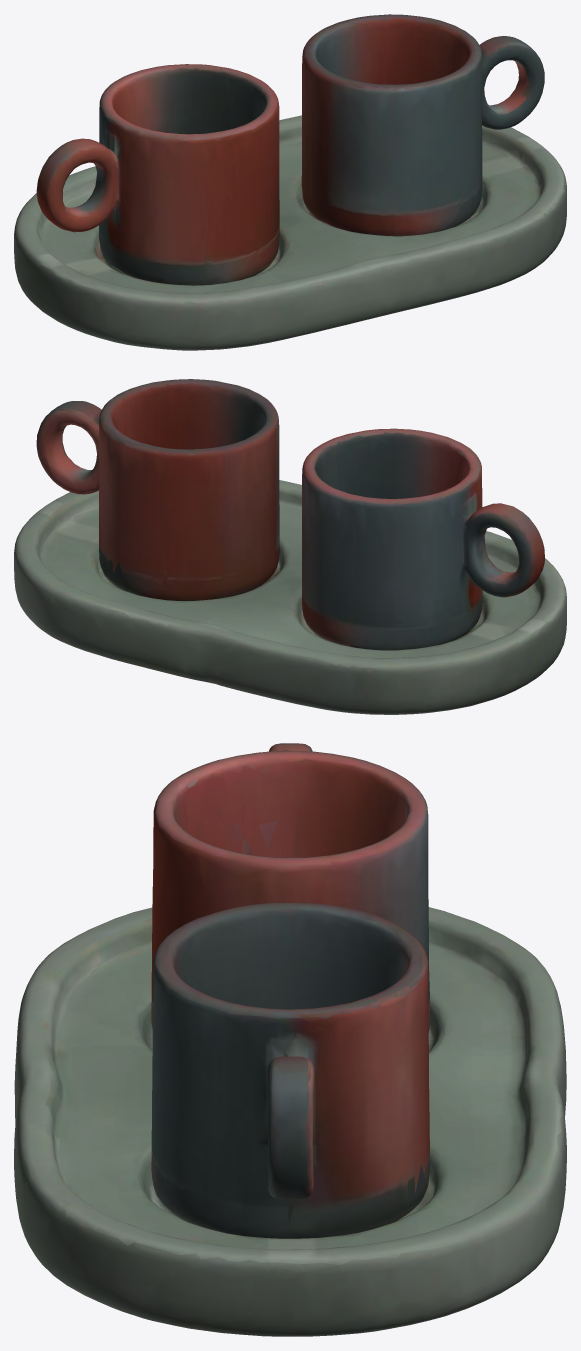
The model's file is sc-teacup-pair.glb.
3 views of the same model, one above another, from view 1: azimuth 30°, elevation 25°; view 2: azimuth 150°, elevation 25°; view 3: azimuth 270°, elevation 25° (orthographic). The views are drawn at different scales.
Visible parts, largest first — view 1: geometry_0; view 2: geometry_0; view 3: geometry_0.
Part boxes in pixels (x1,y1,x2,y2): geometry_0: (14,14,566,350); geometry_0: (14,379,566,714); geometry_0: (14,743,566,1336).
Bounding box in the file's own units: 1 × 0.3493 × 0.6281.
Materials: 1 (1 with a texture image).
